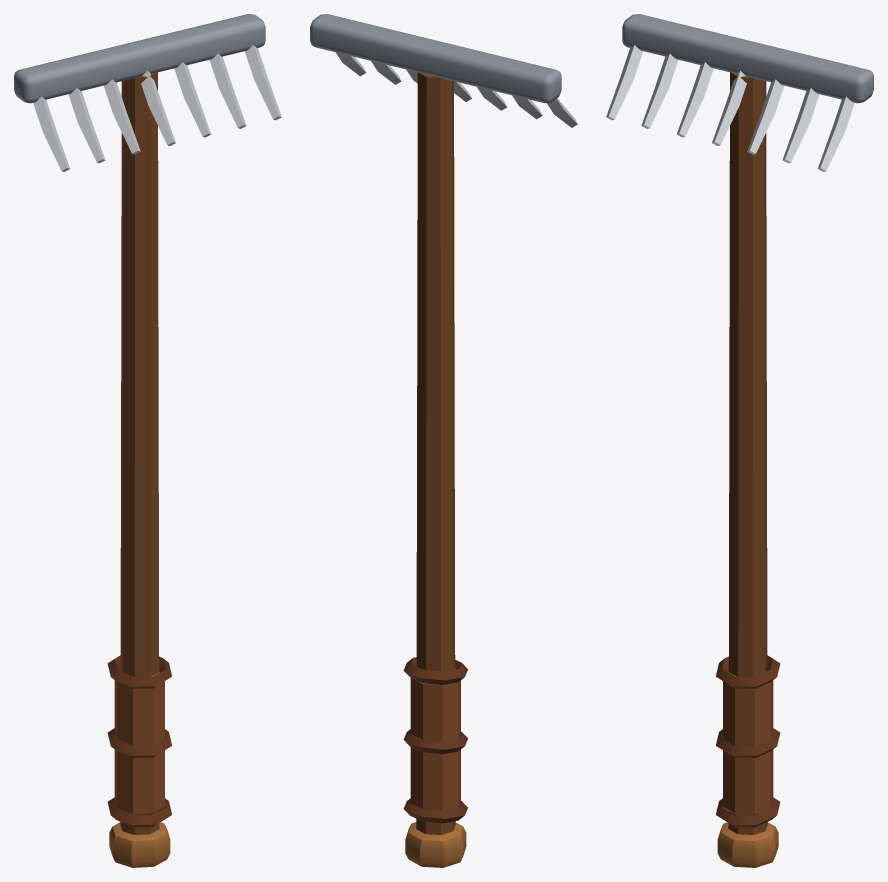
The model's file is Rake.fbx.
The picture shows the model from 3 angles, left to right: view 1: azimuth 30°, elevation 25°; view 2: azimuth 150°, elevation 25°; view 3: azimuth 330°, elevation 25°; orthographic projection.
Parts seen in each view (by area): view 1: Rake; view 2: Rake; view 3: Rake.
Part boxes in pixels (bbox=[...]): Rake: bbox=[14, 14, 281, 867]; Rake: bbox=[310, 14, 577, 867]; Rake: bbox=[606, 14, 873, 867].
Bounding box in the file's own units: 1.1 × 3.53 × 0.3943.
Materials: 1 (1 with a texture image).
